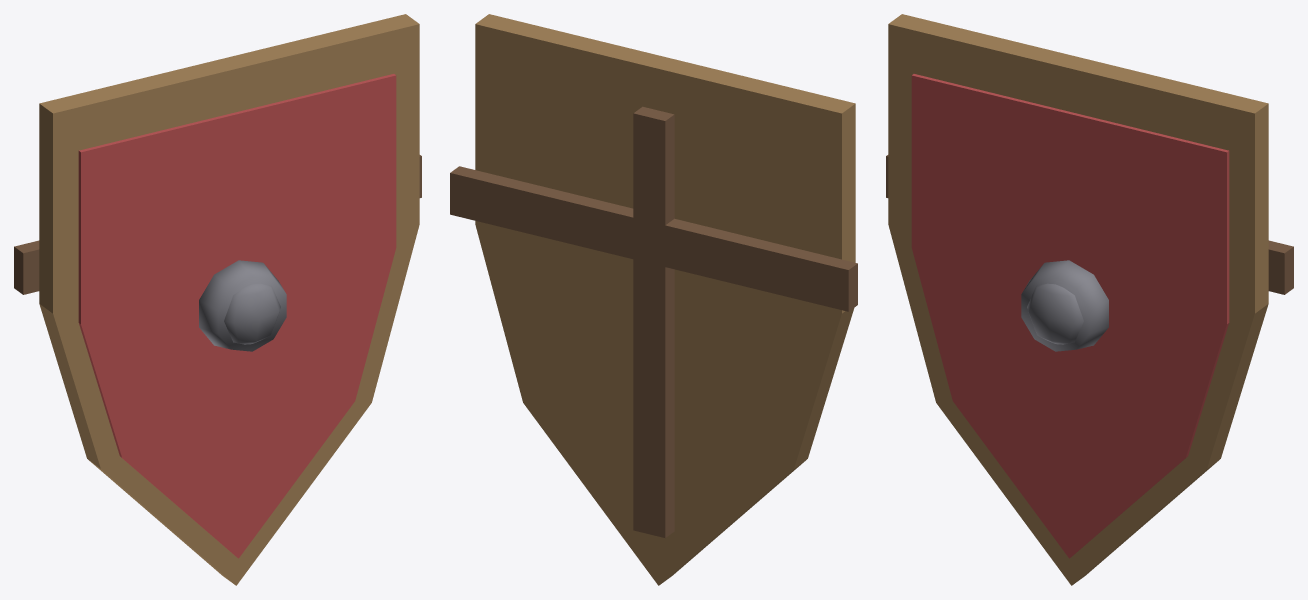
Rendered from arme_ecu.glb.
3 views of the same model, side by side, from view 1: azimuth 30°, elevation 25°; view 2: azimuth 150°, elevation 25°; view 3: azimuth 330°, elevation 25° (orthographic).
Parts seen in each view (by area): view 1: ecu_peinture, ecu_planches, ecu_umbo, ecu_renforts; view 2: ecu_planches, ecu_renforts; view 3: ecu_peinture, ecu_planches, ecu_umbo, ecu_renforts.
Part boxes in pixels (bbox=[...]): ecu_peinture: bbox=[78, 74, 396, 558]; ecu_planches: bbox=[39, 14, 419, 585]; ecu_umbo: bbox=[199, 260, 286, 351]; ecu_renforts: bbox=[14, 155, 421, 294]; ecu_planches: bbox=[475, 14, 855, 585]; ecu_renforts: bbox=[450, 106, 857, 537]; ecu_peinture: bbox=[911, 74, 1229, 558]; ecu_planches: bbox=[888, 14, 1268, 585]; ecu_umbo: bbox=[1021, 260, 1108, 351]; ecu_renforts: bbox=[886, 155, 1293, 294].
Size of the model in its own units: 0.5 by 0.62 by 0.1.
